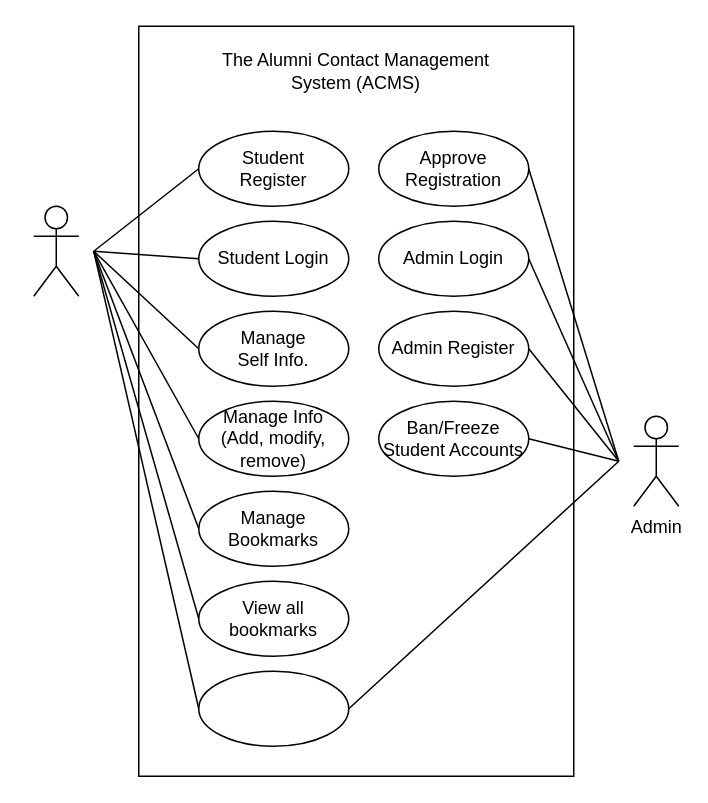
The diagram is 708 pixels wide and 803 high, and some of its shapes have lost their labels. The shapes that lost their labels are listed below. From the top down, each one's centre as x and y in pixels, then its label:
At pixel 55 250: "Student".
At pixel 273 708: "View Students' Information".
